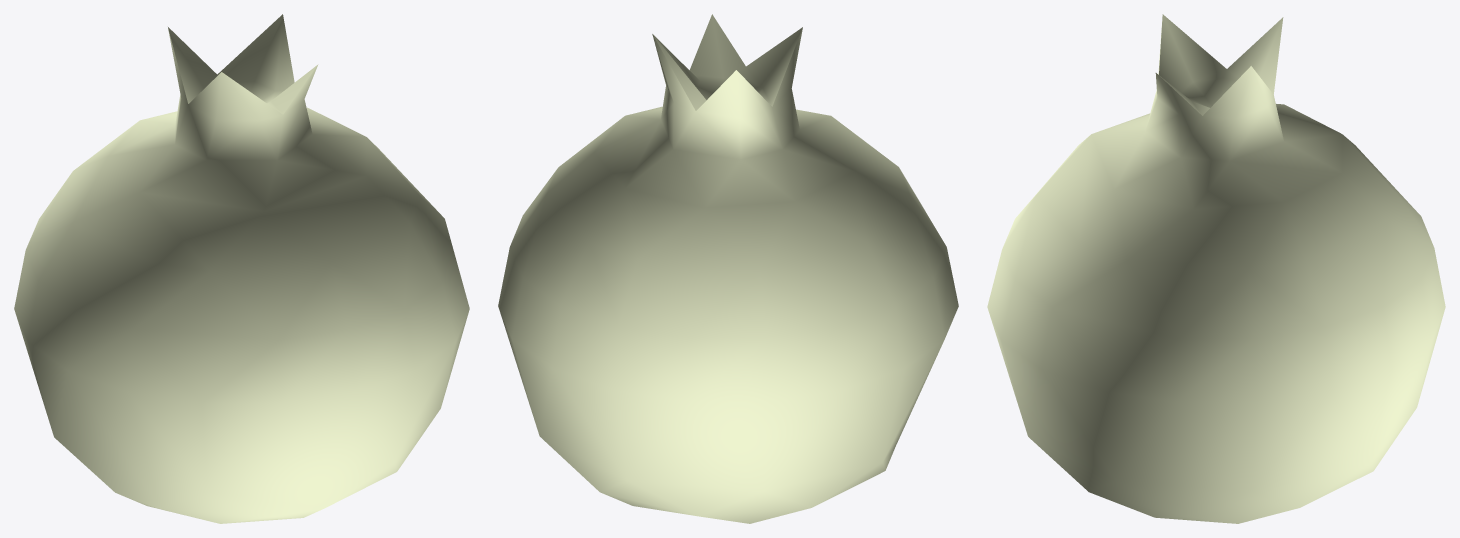
Rendered from FP_pomegranate.FBX.
3 views of the same model, side by side, from view 1: azimuth 30°, elevation 25°; view 2: azimuth 150°, elevation 25°; view 3: azimuth 270°, elevation 25° (orthographic).
Visible parts, largest first — view 1: FP_pomegranate; view 2: FP_pomegranate; view 3: FP_pomegranate.
Part boxes in pixels (bbox=[...]): FP_pomegranate: bbox=[14, 14, 469, 523]; FP_pomegranate: bbox=[498, 14, 958, 523]; FP_pomegranate: bbox=[987, 14, 1445, 523].
Bounding box in the file's own units: 0.052 × 0.0594 × 0.0528.
